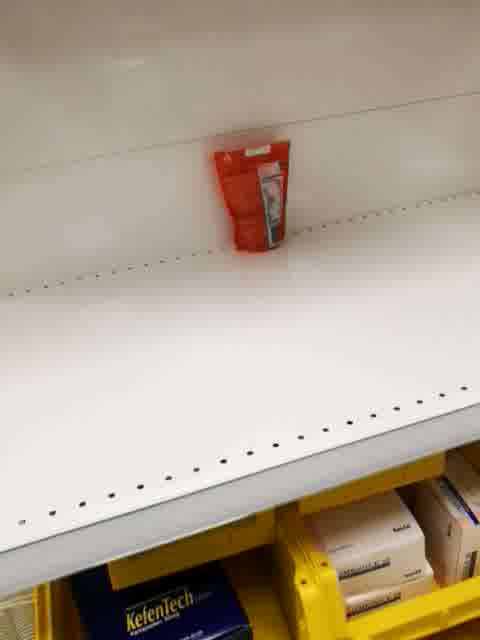whitechia: (213, 136, 290, 255)
